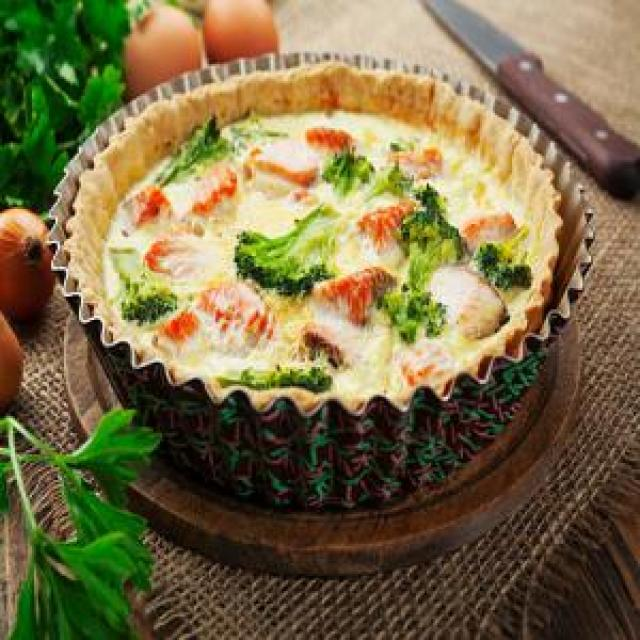knife: (422, 0, 638, 194)
